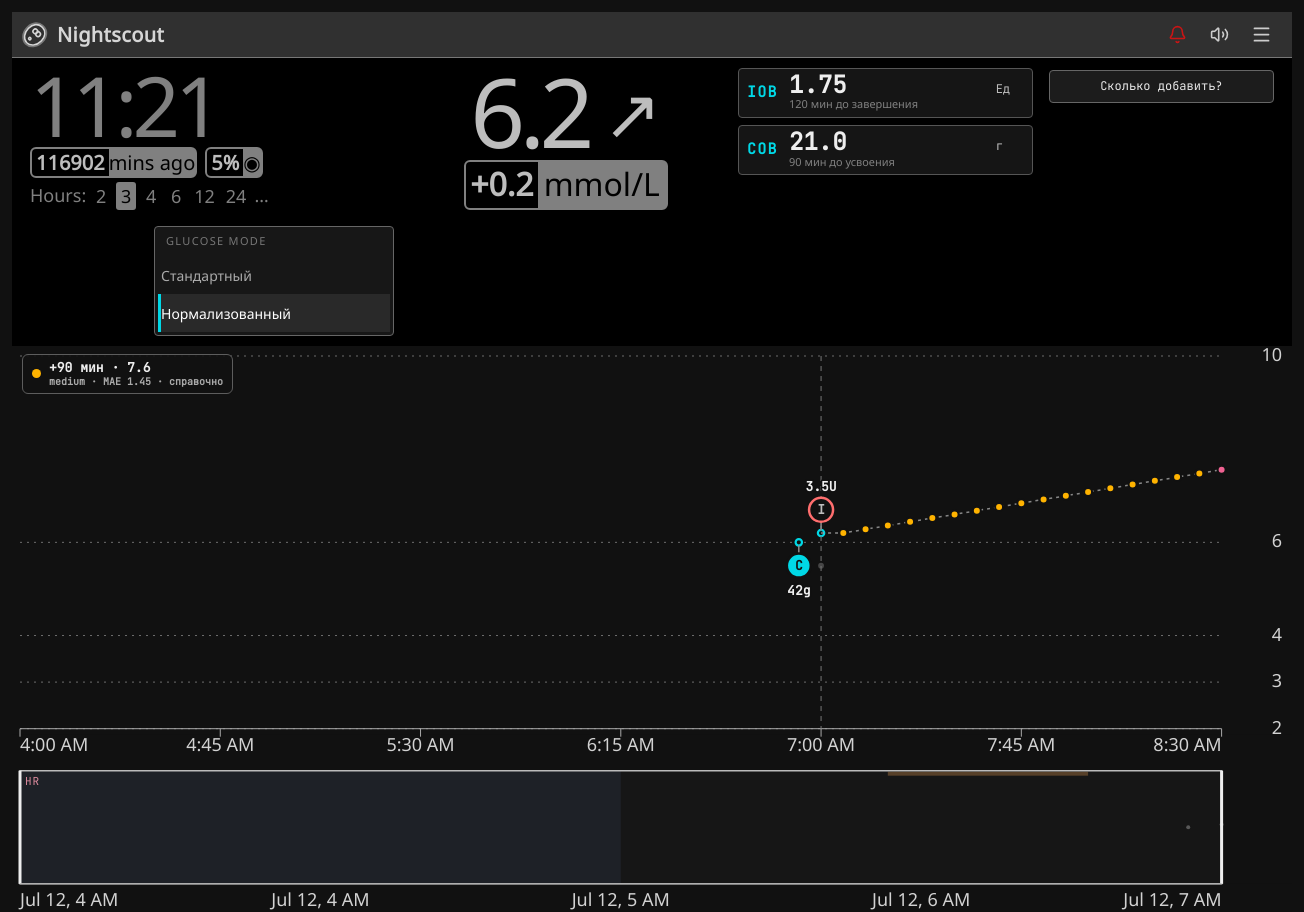
Test: NightscoutPage › the top-up button shows the number and the arithmetic behind it
This screenshot has width=1304, height=912.
Click the button "Сколько добавить?": (1161, 87) [1049,70,1274,103]
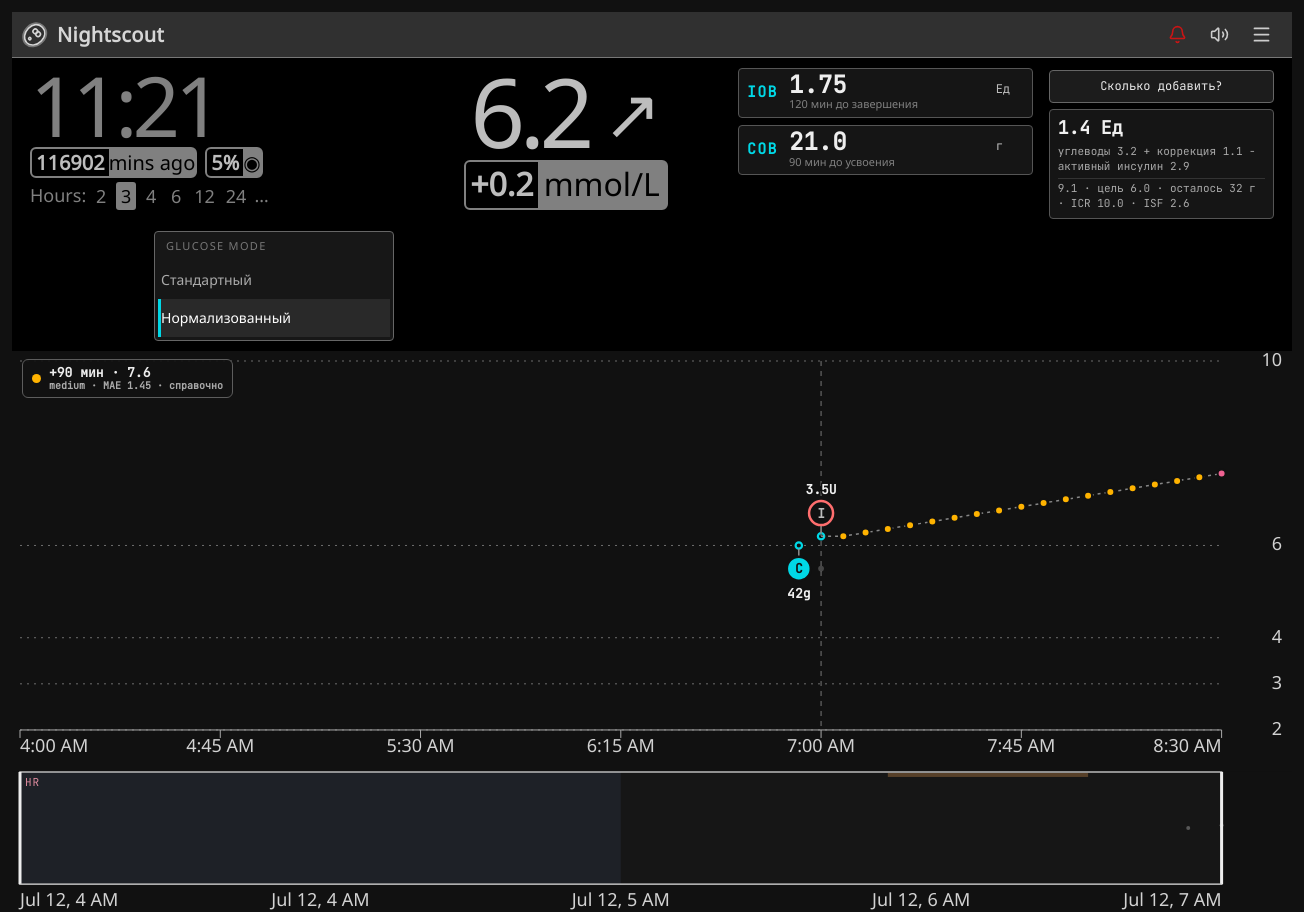
Check: the text with class "ns-top-up-units" shows "1.4", box [1058,117,1090,140]
Check: the element with class "ns-top-up" shows "углеводы 3.2", box [1049,64,1274,219]
Check: the element with class "ns-top-up" shows "коррекция 1.1", box [1049,64,1274,219]
